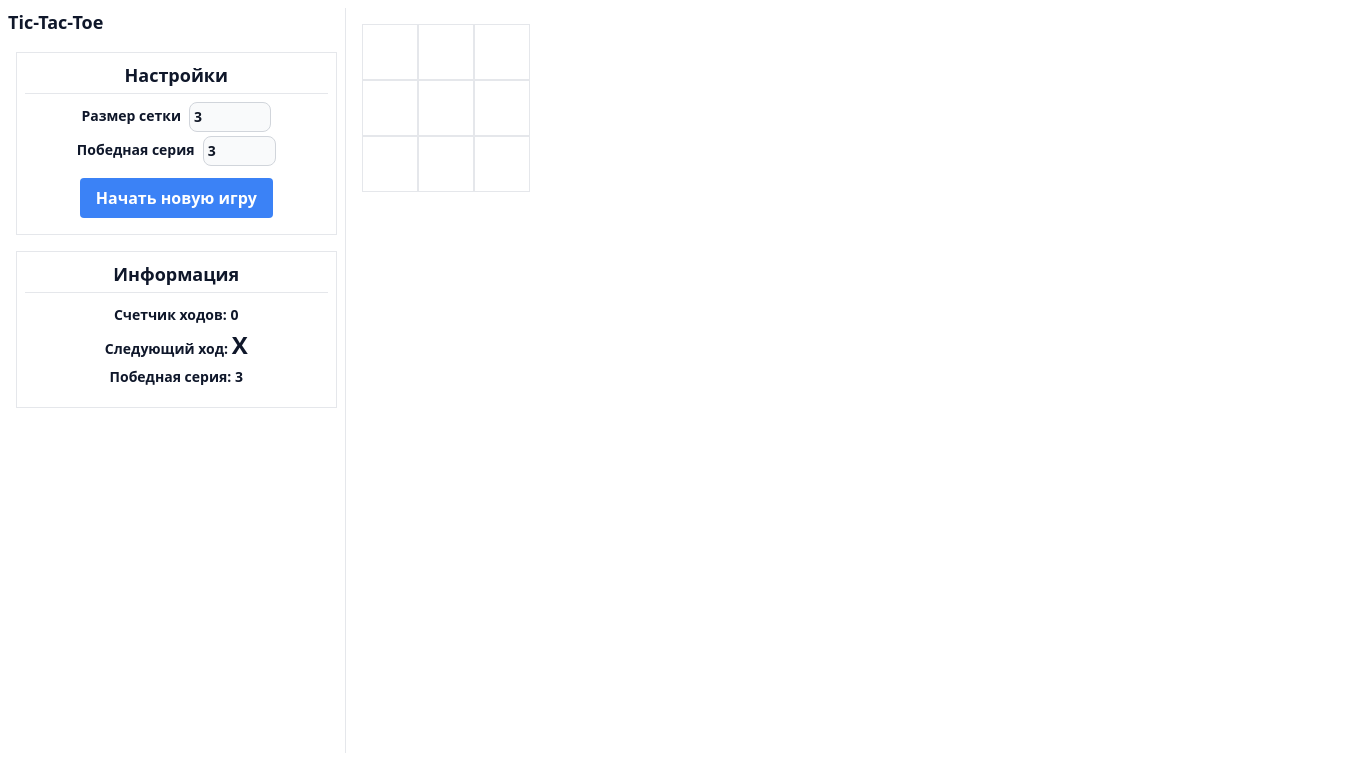
Test case: App component › should start a new game
Replace the text in the number field with placeholder "Размер сетки" with "12". click: (230, 117)
box: 189,102 -> 271,132
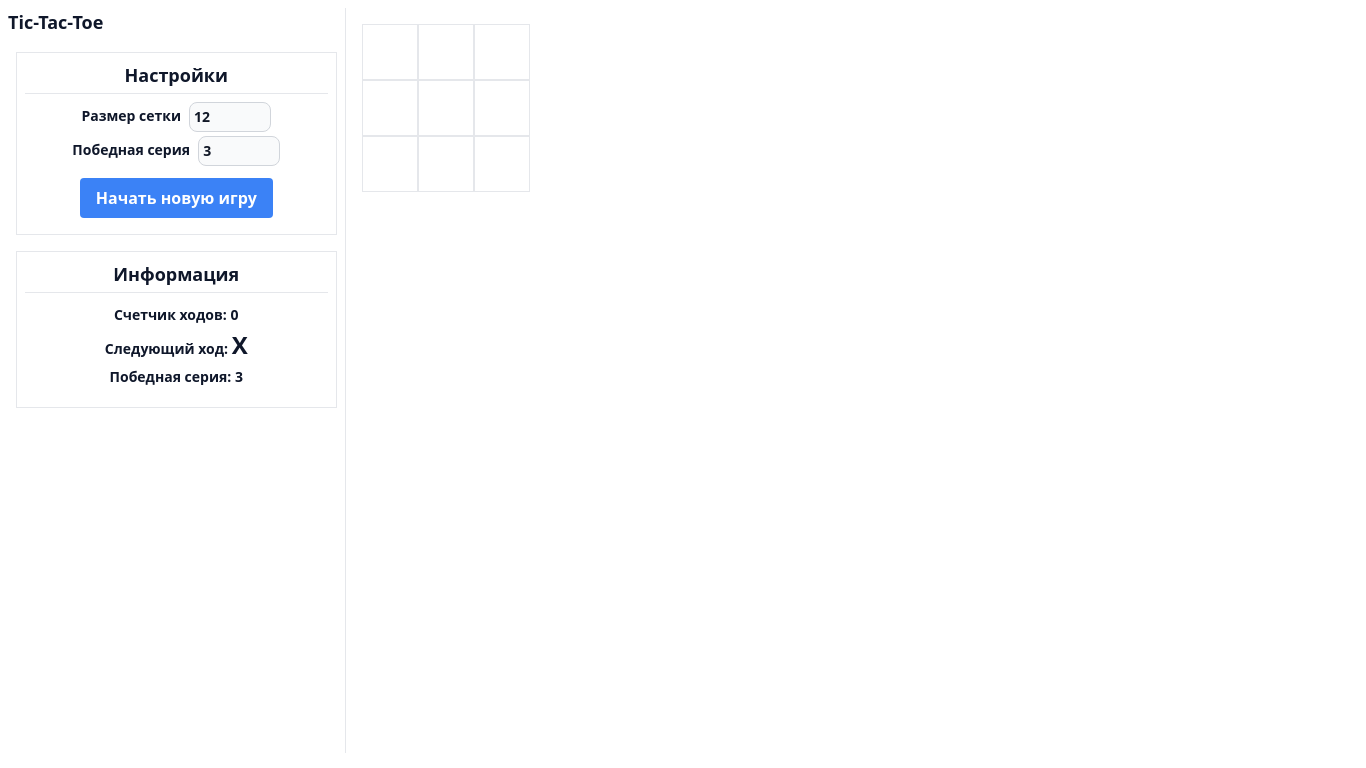
Check: the number field with placeholder "Размер сетки" has attribute value="12", box 189,102 -> 271,132
Replace the text in the number field with placeholder "Победная серия" with "9". click: (239, 151)
box: 198,136 -> 280,166
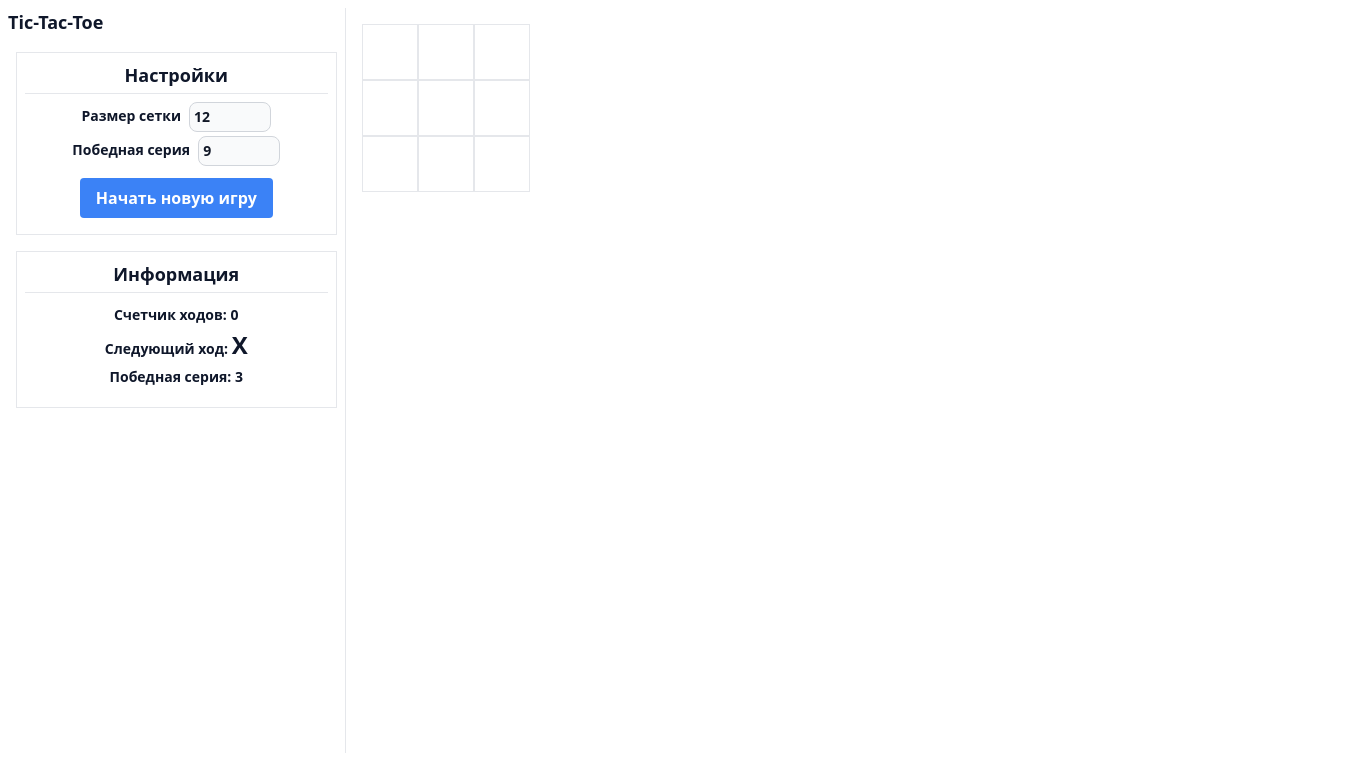
Check: the number field with placeholder "Победная серия" has attribute value="9", box 198,136 -> 280,166
Click the button "Начать новую игру". click: click(176, 198)
box: 80,178 -> 273,218
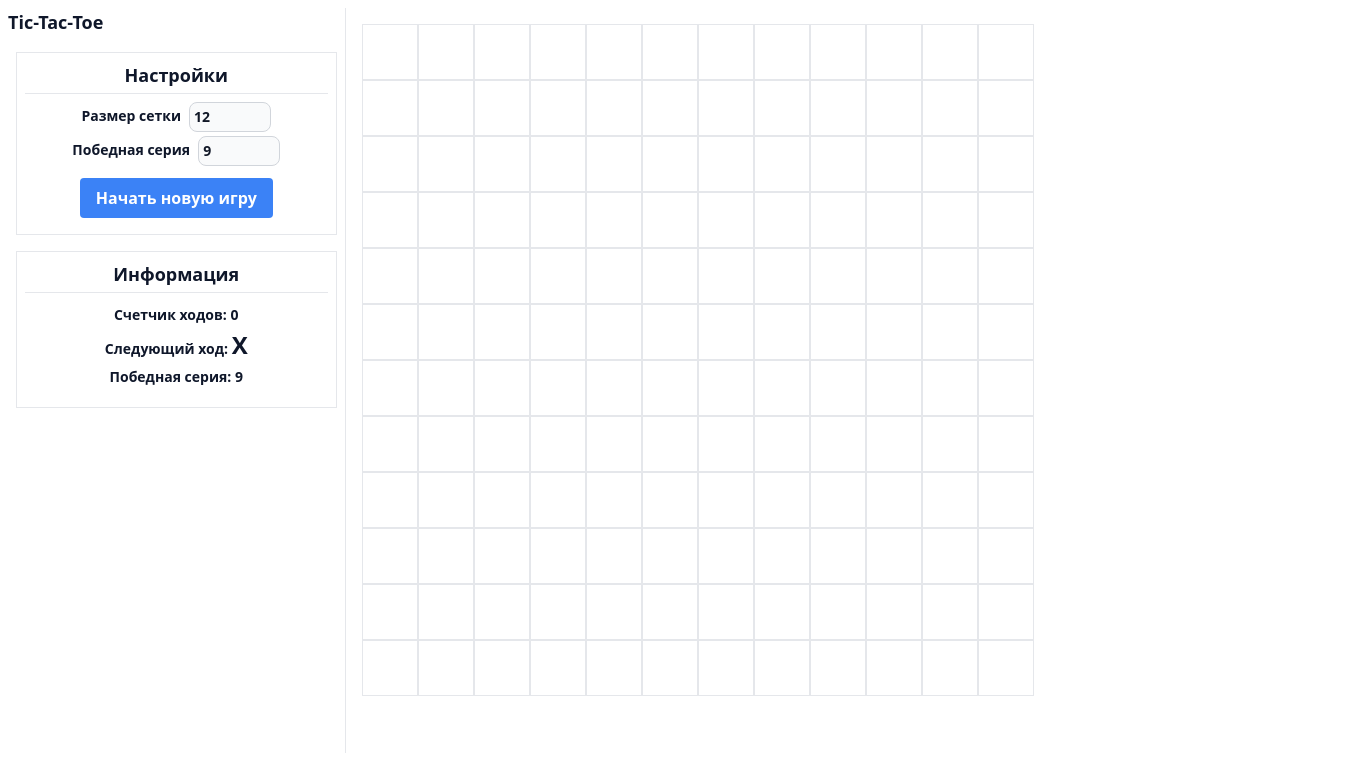
Check: the text "Счетчик ходов: 0" is shown, box 114,301 -> 238,329
Check: the text "Победная серия: 9" is shown, box 110,363 -> 243,391
Check: the number of elements with class "cell" is 144
